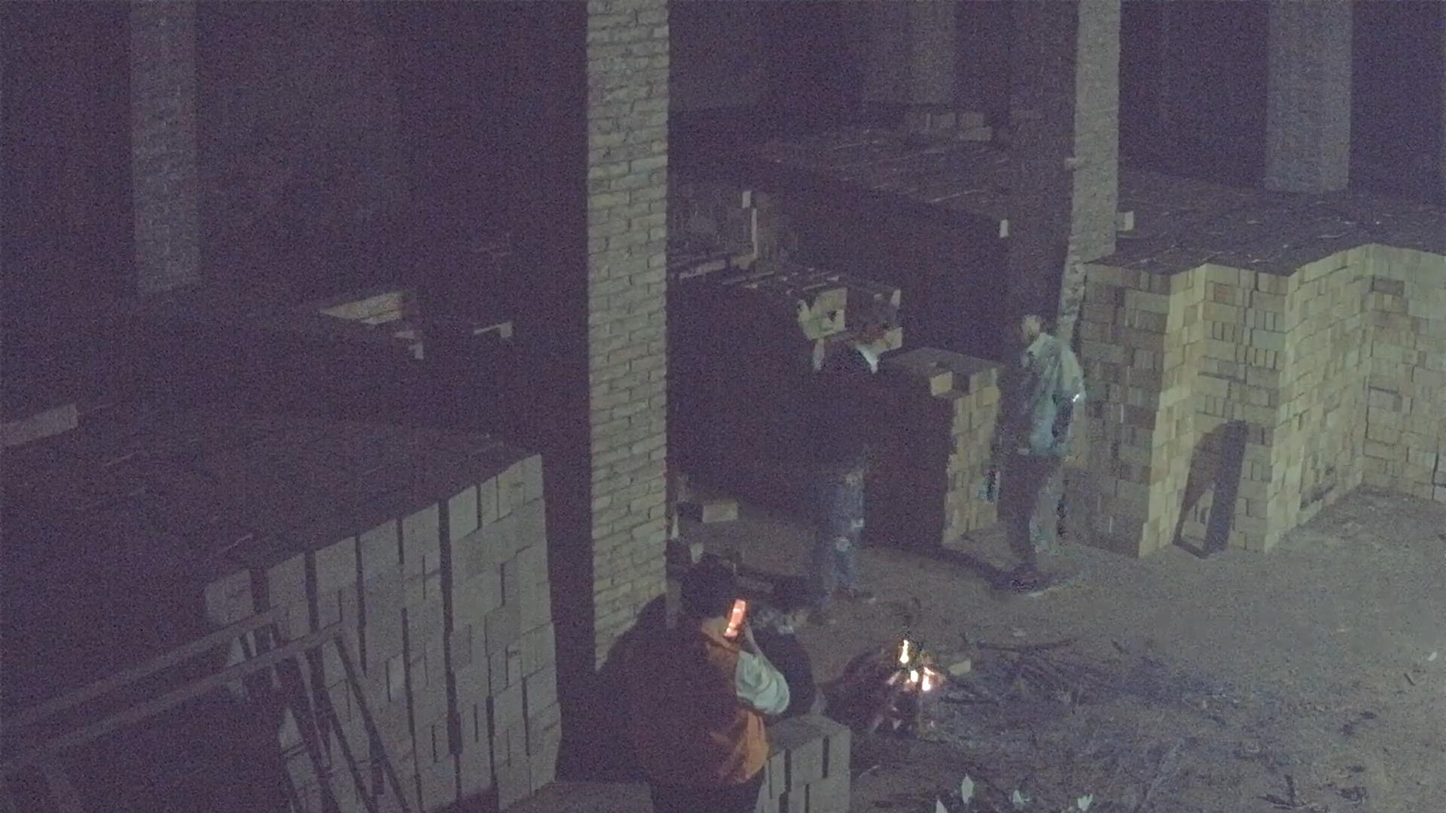fire: (888, 638, 943, 695)
